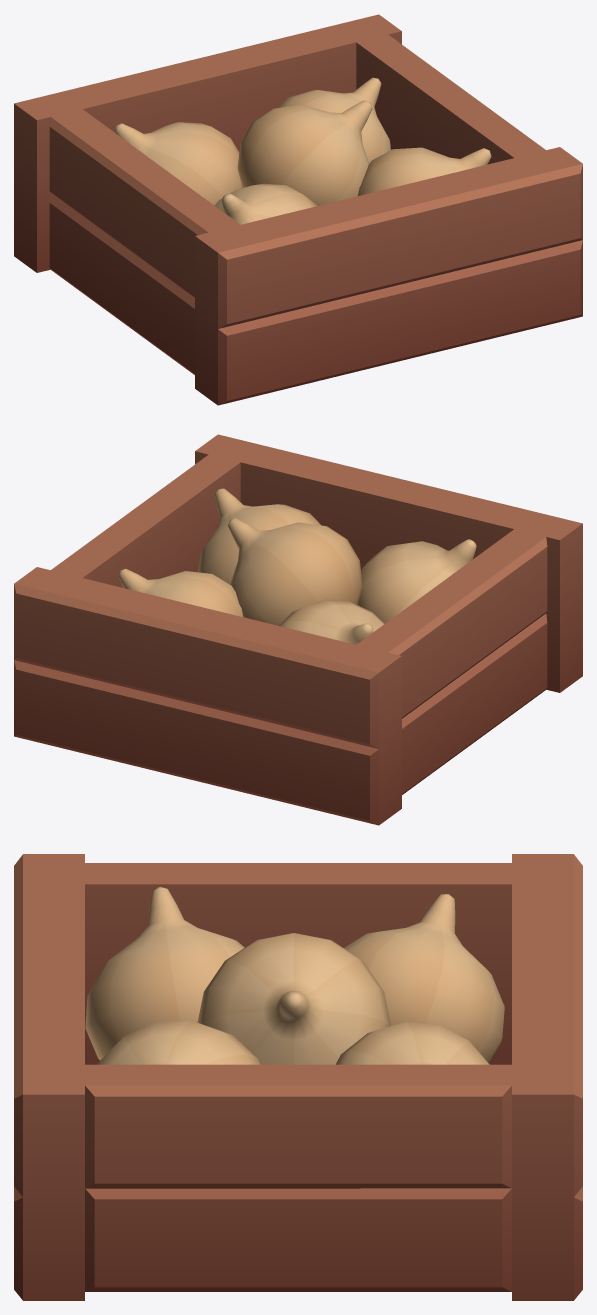
File: crate_onions.obj
The picture shows the model from 3 angles, top to bottom: view 1: azimuth 30°, elevation 25°; view 2: azimuth 150°, elevation 25°; view 3: azimuth 270°, elevation 25°; orthographic projection. The views are drawn at different scales.
Parts seen in each view (by area): view 1: crate_onions_Cube.231; view 2: crate_onions_Cube.231; view 3: crate_onions_Cube.231.
Boxes of the visible parts, <box> form: crate_onions_Cube.231: <box>14,14,582,405</box>; crate_onions_Cube.231: <box>14,434,582,825</box>; crate_onions_Cube.231: <box>14,854,582,1300</box>.
Bounding box in the file's own units: 2 × 0.9234 × 2.
1 material, 1 textured.
